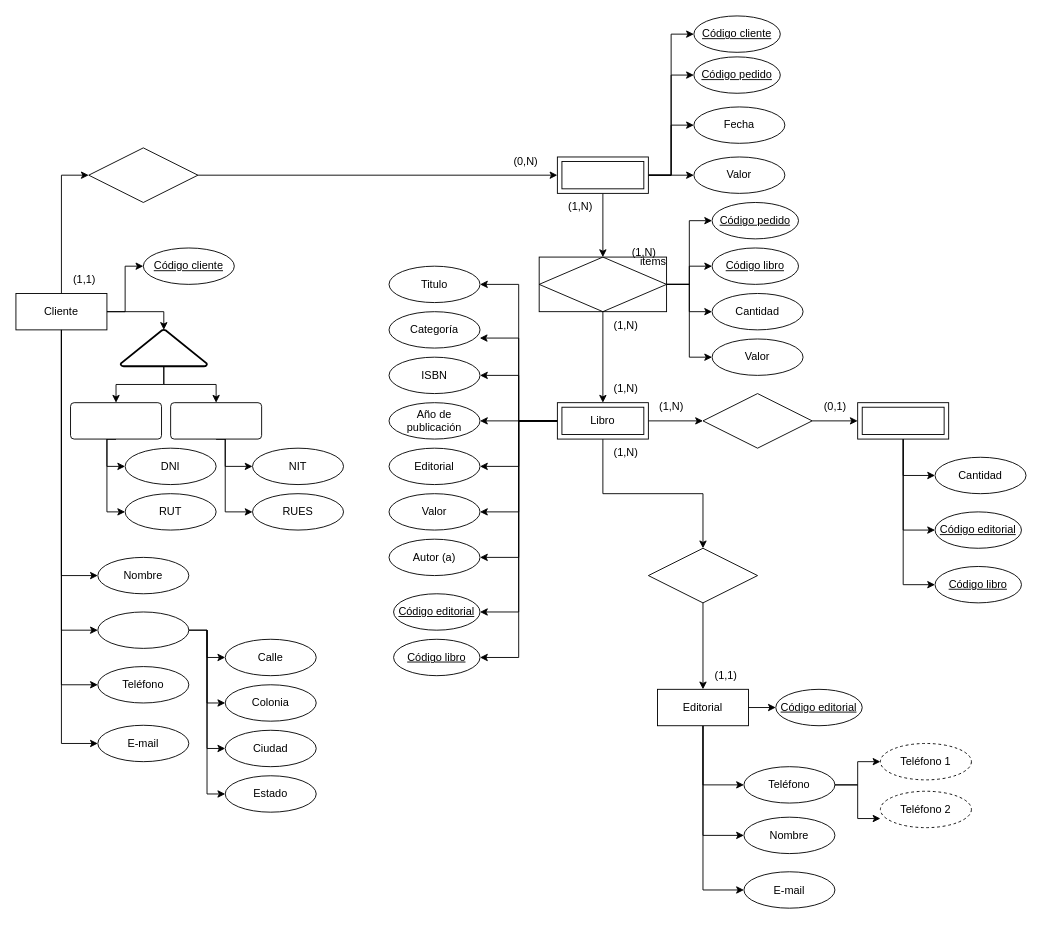
Image size: 1042x925. Some labels were removed from this diagram. The shapes that lost their labels are listed below. From the top down, each one's box as (x1, y1, x2, y2) in pixels, then its label:
(88, 147, 198, 202): Realiza
(556, 156, 648, 193): Pedido
(538, 256, 667, 312): Contiene
(119, 329, 207, 367): ID
(70, 402, 162, 439): PF
(170, 402, 262, 439): PJ
(702, 393, 812, 448): Existe
(857, 402, 949, 439): Inventario
(647, 547, 758, 603): Pertenece
(97, 611, 189, 648): Dirección
